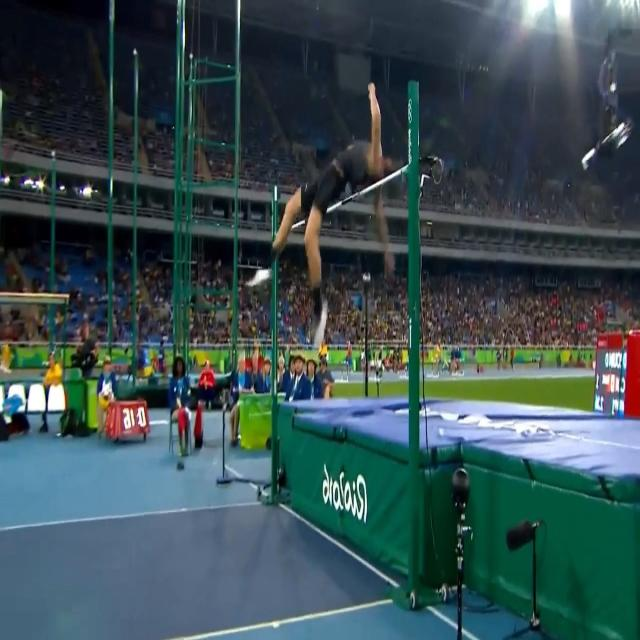jump: (245, 80, 403, 353)
